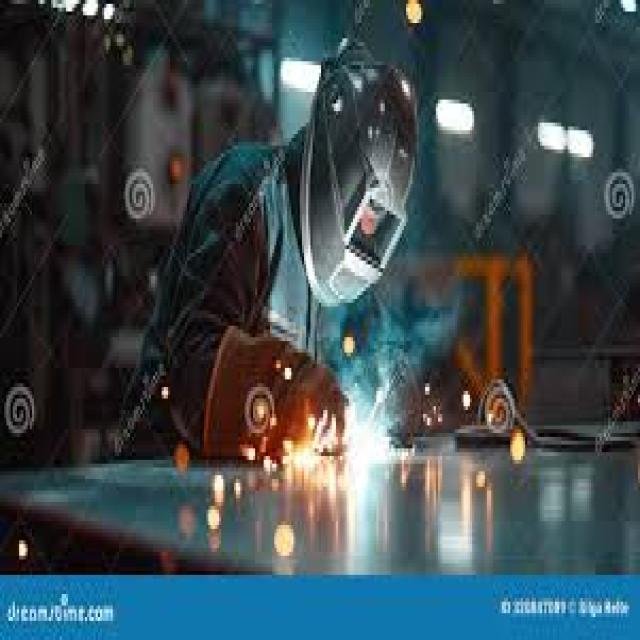welding: (354, 420, 379, 459)
